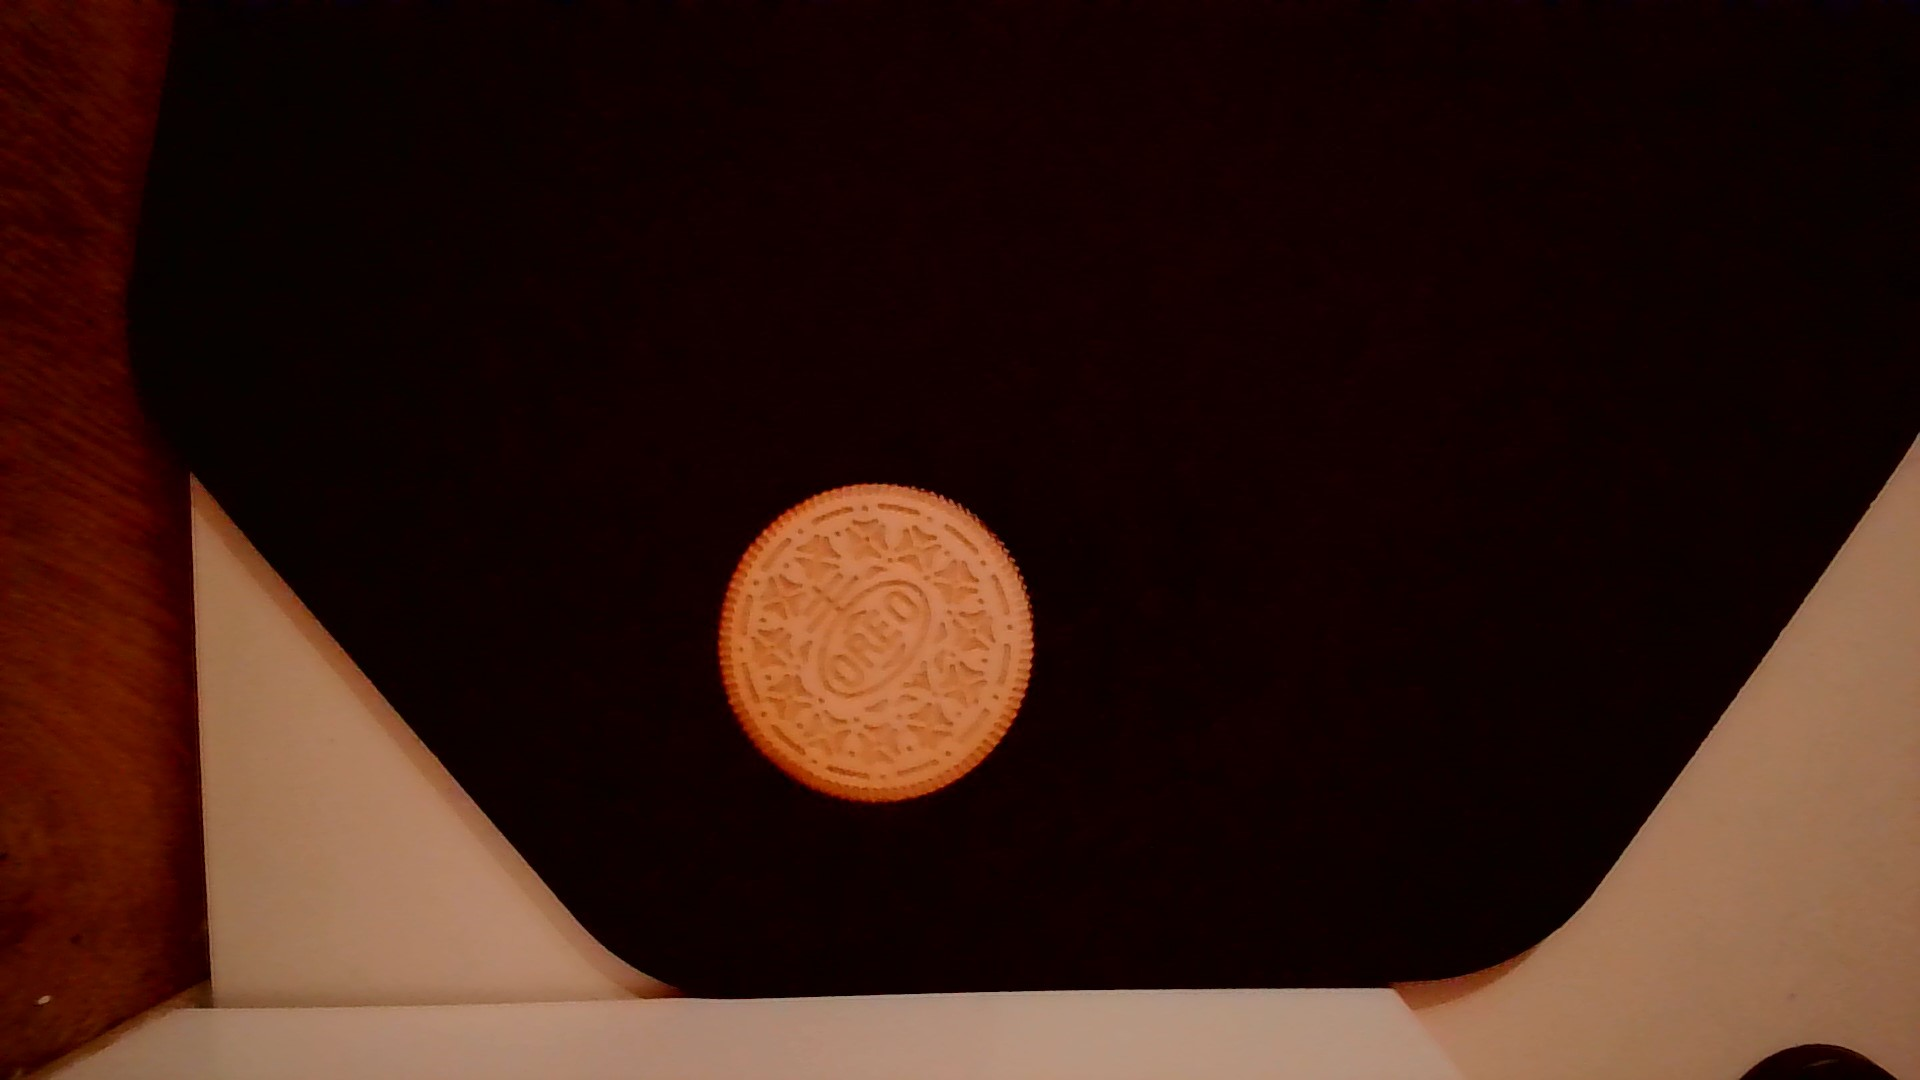Oréo: (705, 480, 1052, 808)
